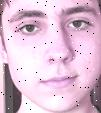without_mask: (2, 2, 101, 113)
